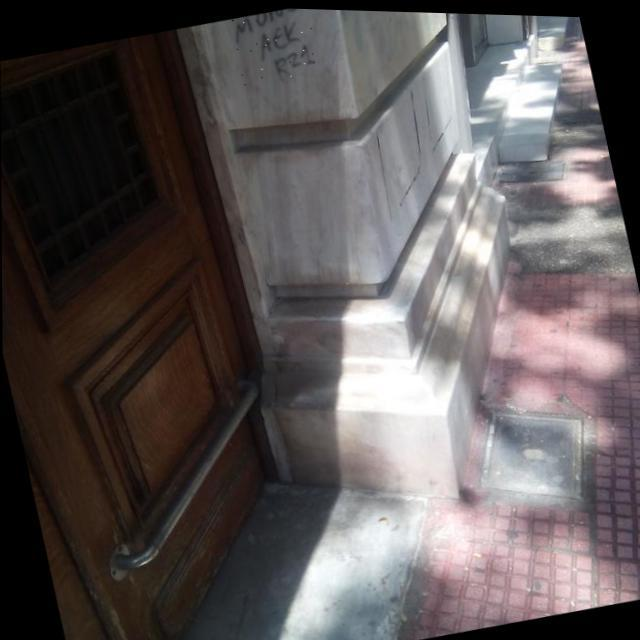-: (228, 5, 322, 86)
